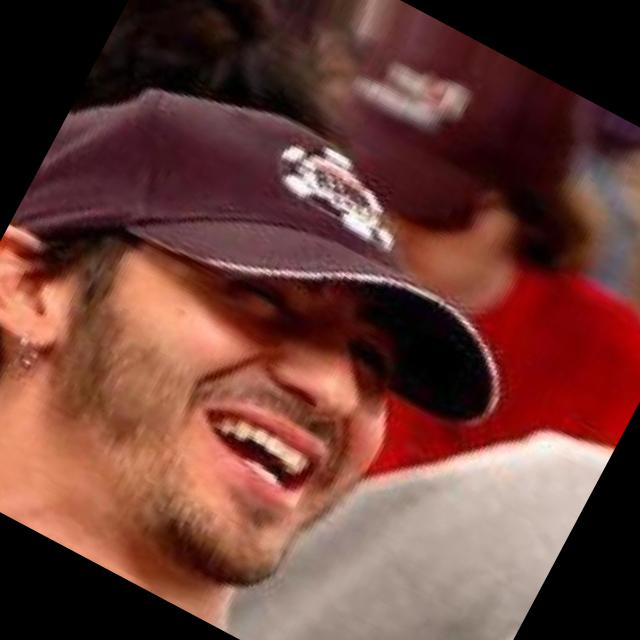bareface: (0, 119, 479, 640)
